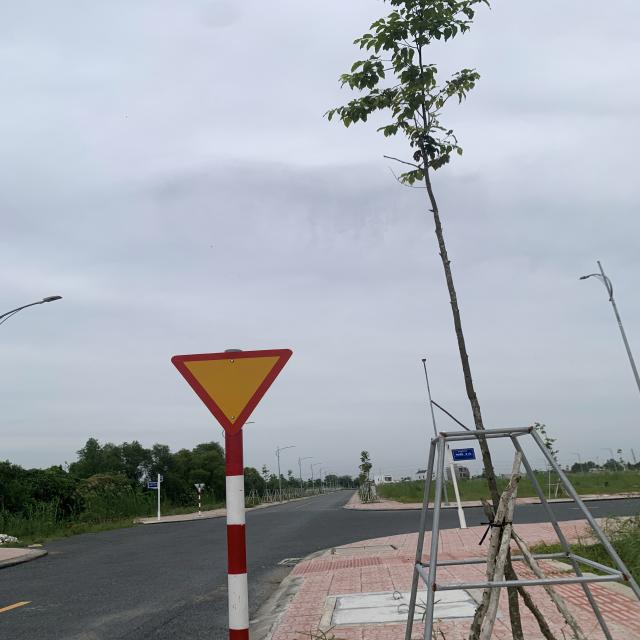Gioi_Han_Toc_Do_25: (170, 348, 293, 436)
